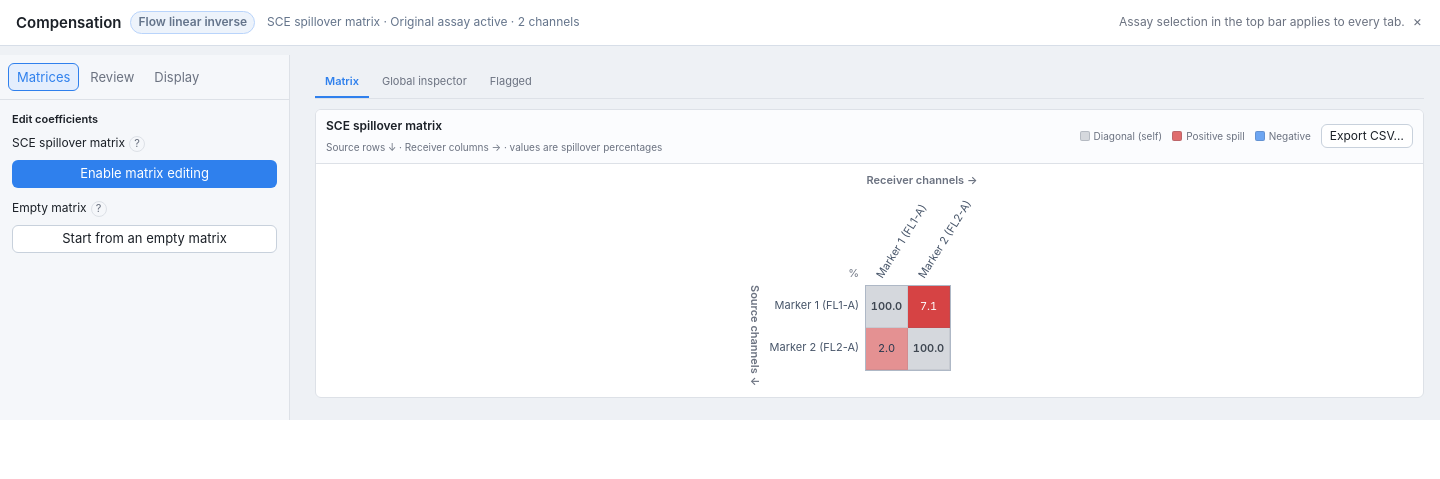
it: CompensationTab common path › labels an SCE-hosted Flow matrix truthfully while preserving its exact baseline
What coordinates should you click on to do the following:
click the button "Enable matrix editing"
I would click on:
 (144, 174)
Its box is x1=12 y1=160 x2=277 y2=188.
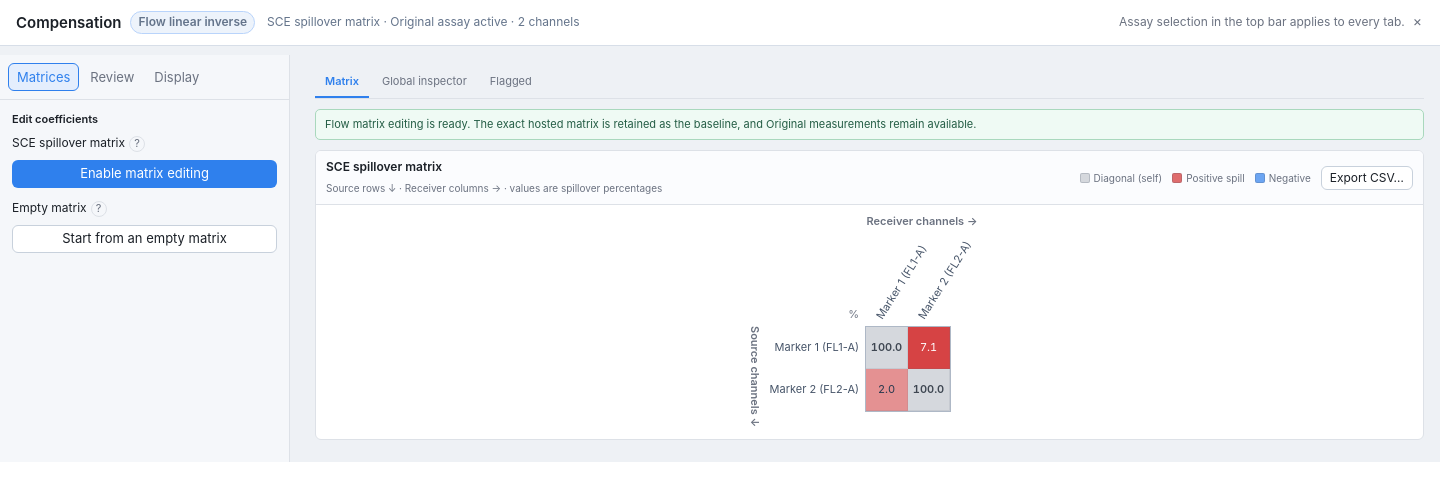
Expected: the text "exact hosted matrix is retained as the baseline" is shown, x1=325 y1=117 x2=976 y2=131
